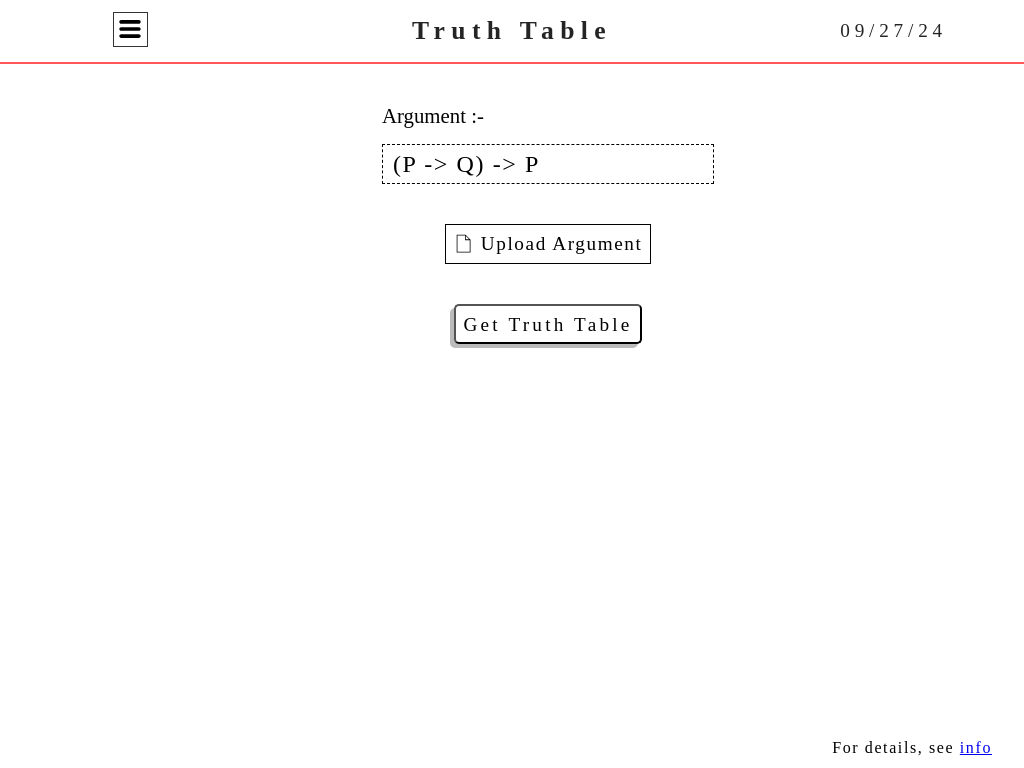
Test: TruthTablePage › Render table with given input
Click the button with aria-label "submit argument": (548,324) [454,304,642,344]
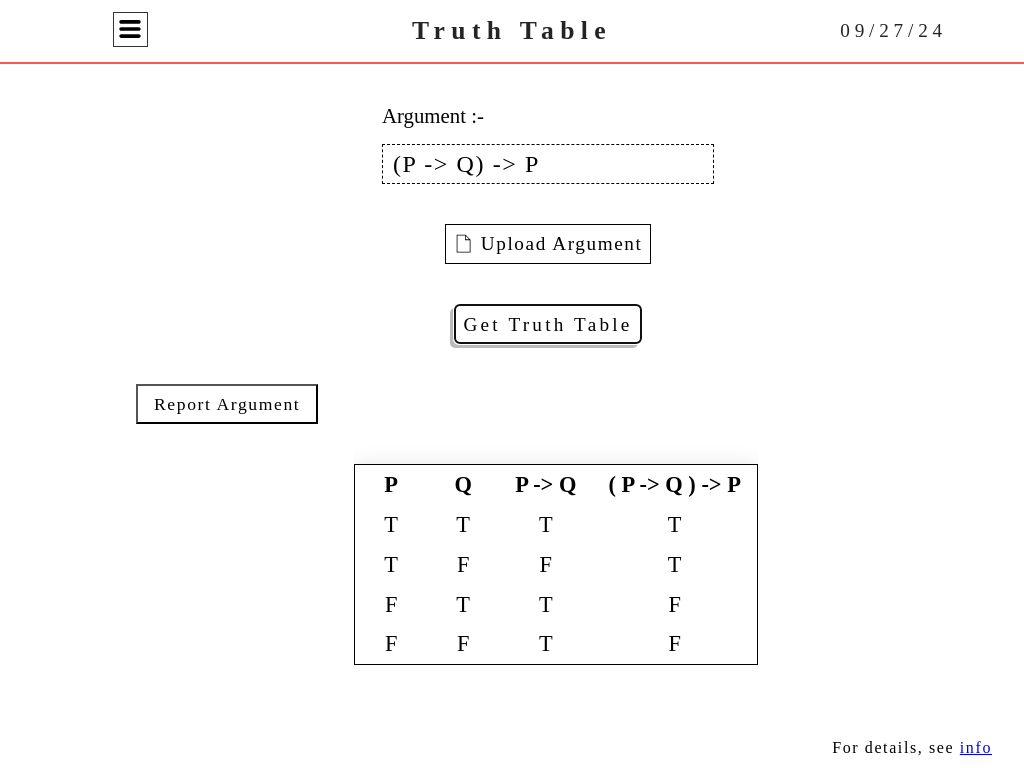
Check: the number of column headings is 4, box [355,464,427,504]; [427,464,499,504]; [499,464,592,504]; [592,464,757,504]
Check: the column heading "P" is shown, box [355,464,427,504]
Check: the column heading "Q" is shown, box [427,464,499,504]
